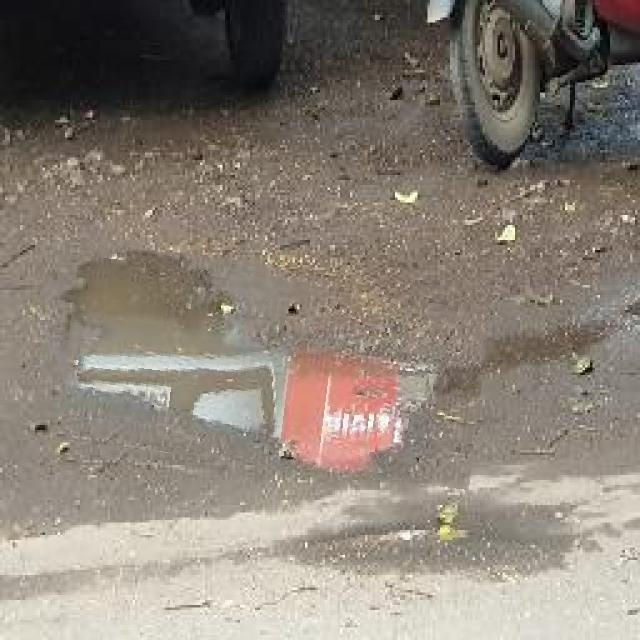puddle: (63, 255, 489, 479)
